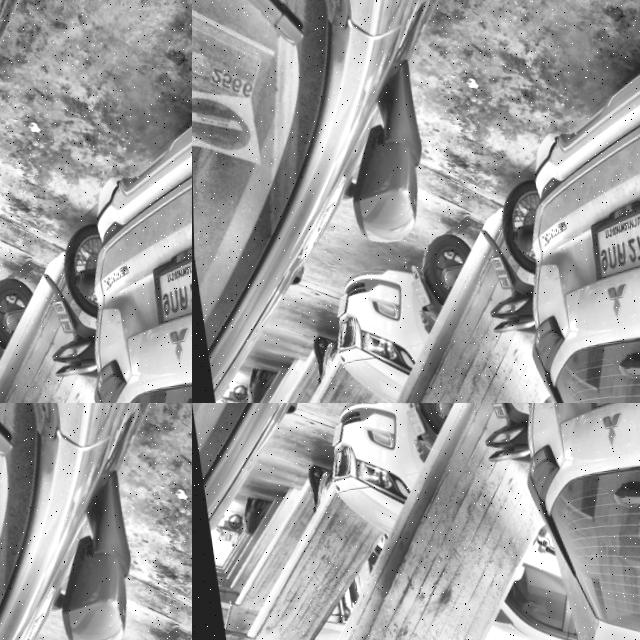license-plate: (400, 406, 425, 439), (482, 403, 507, 422)
